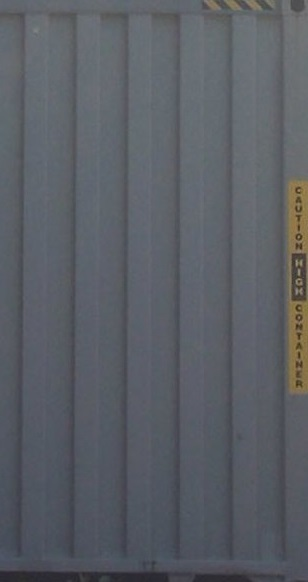container_no_door: (1, 1, 304, 548)
